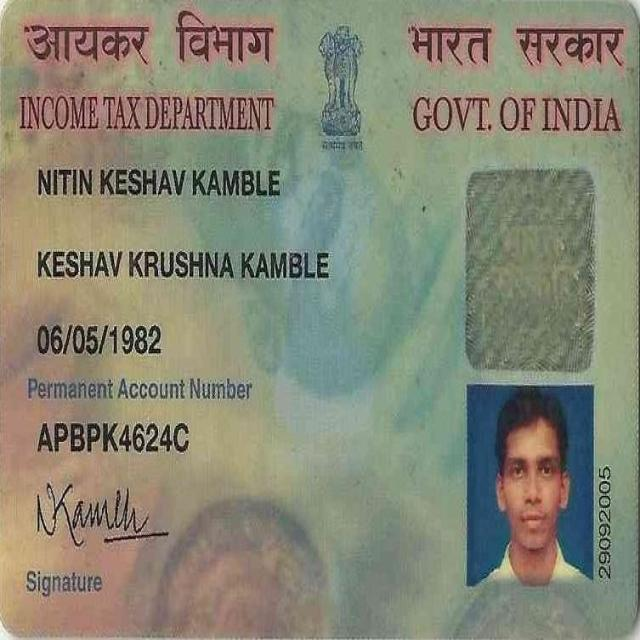pan_card: (3, 5, 637, 633)
